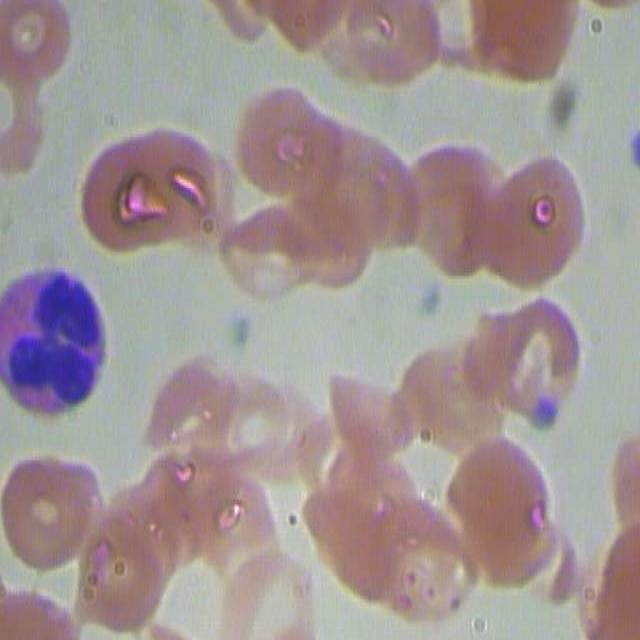RBC: (315, 448, 477, 625), (242, 87, 345, 274), (78, 122, 207, 261), (448, 436, 560, 594), (358, 114, 462, 283), (164, 378, 318, 492), (466, 150, 586, 290), (473, 287, 588, 426), (120, 461, 212, 613), (420, 0, 580, 86), (406, 323, 494, 463), (0, 444, 100, 567), (311, 0, 442, 92), (219, 552, 319, 640), (573, 517, 640, 637), (344, 372, 423, 453), (0, 578, 102, 640), (0, 2, 68, 86), (0, 54, 41, 178)
WBC: (0, 256, 106, 432)
platelets: (525, 392, 562, 436)
